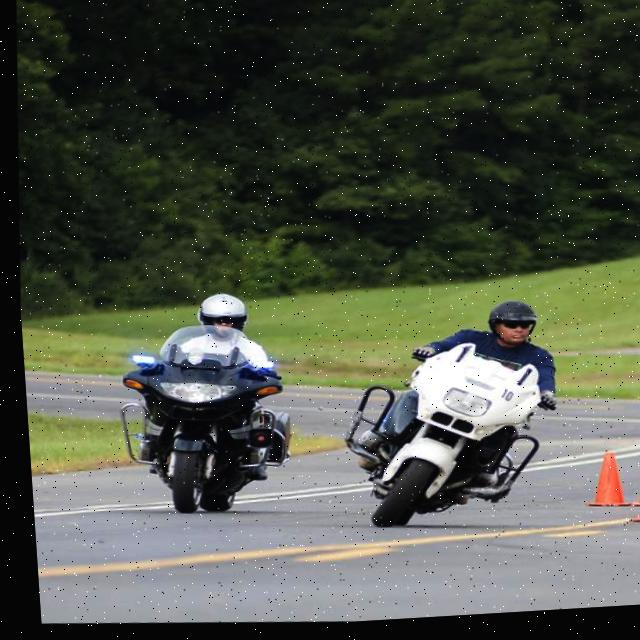motorcycle: (328, 326, 576, 540), (108, 304, 304, 526)
